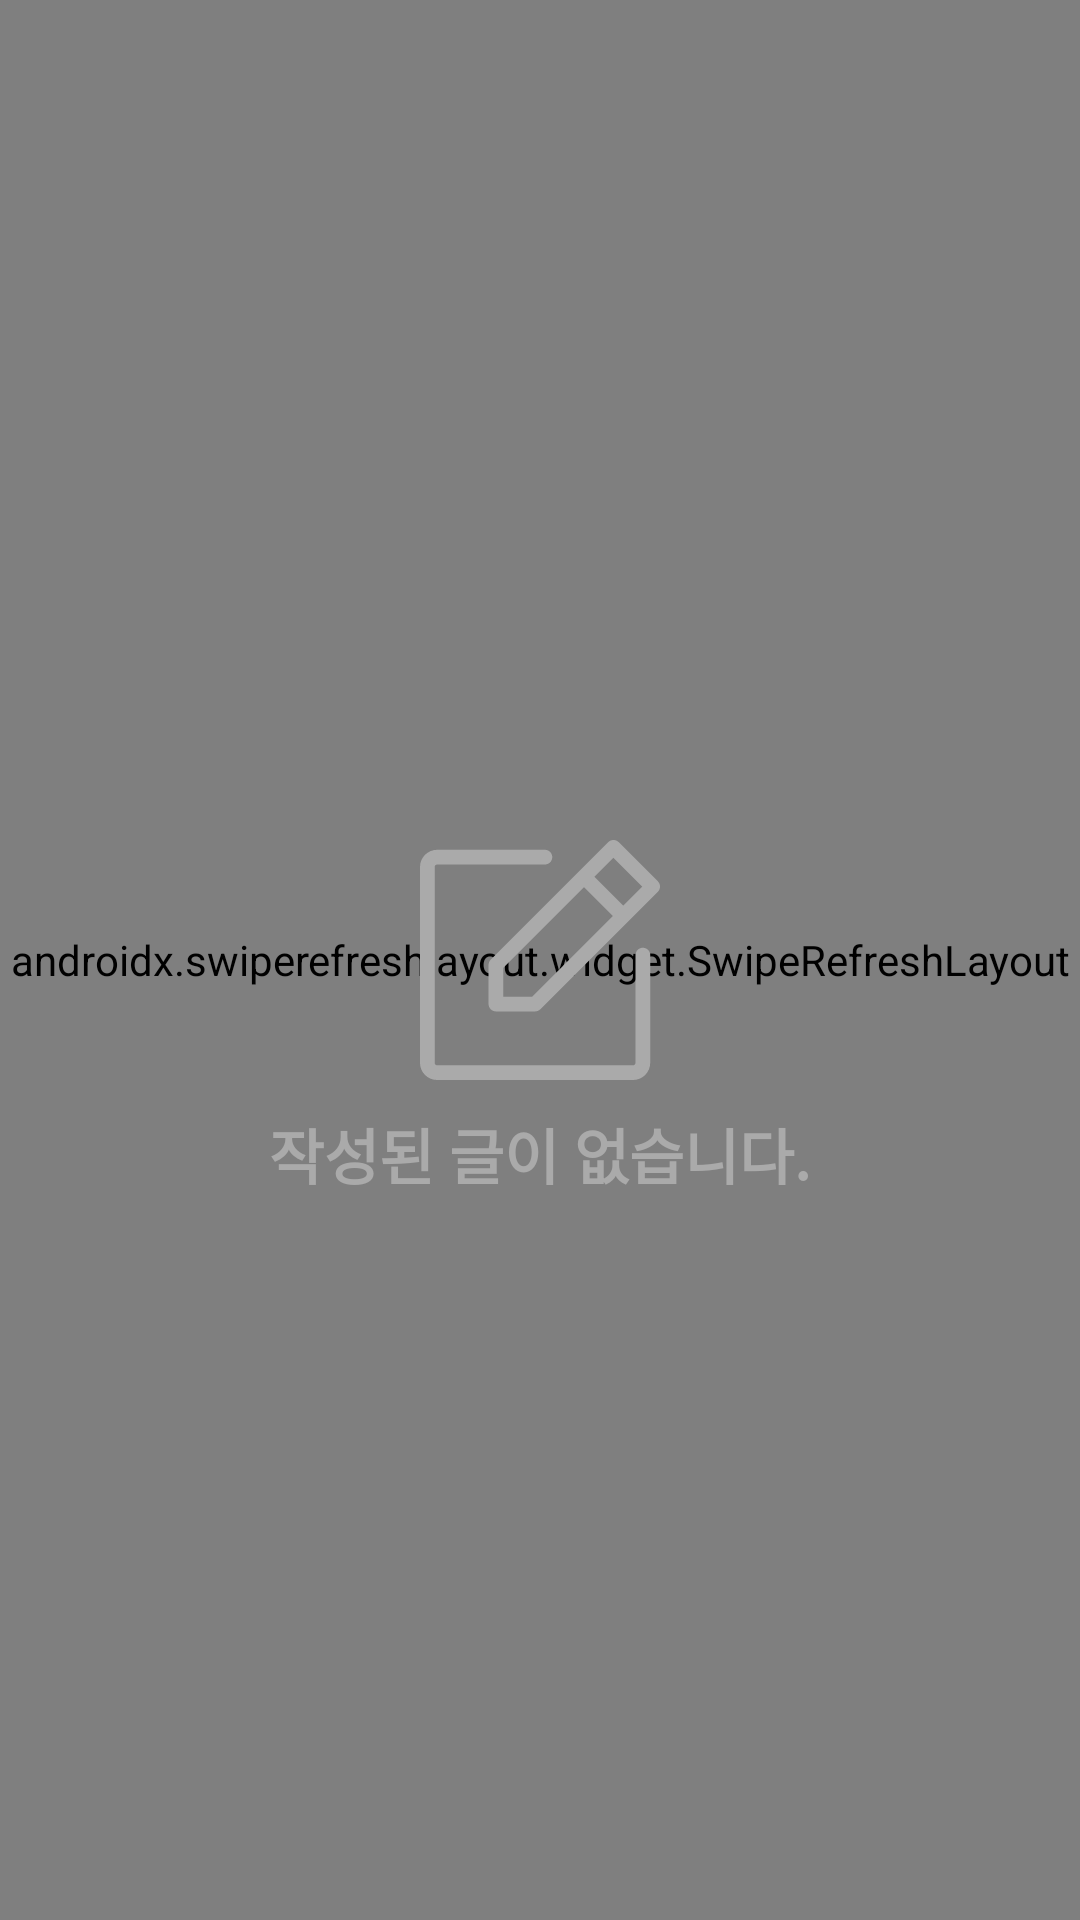

Locate icon controls on the screen. Image size 1080 x 1920, boxes as (x1, y1, x2, y2).
write: (420, 840, 660, 1080)
